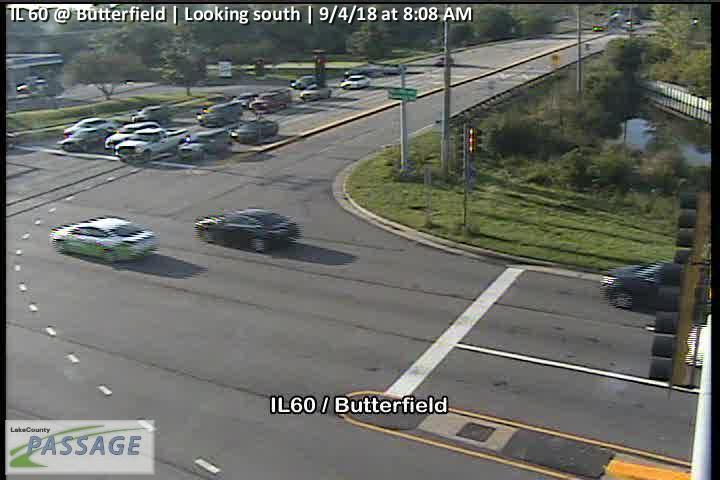SUV: (180, 130, 237, 161), (193, 102, 243, 127), (127, 105, 171, 123)
Sedan: (601, 258, 699, 313), (50, 217, 159, 263), (193, 208, 301, 252), (104, 121, 162, 151), (62, 127, 110, 152), (64, 117, 118, 138), (231, 122, 278, 145)
Truck: (115, 127, 188, 165)
